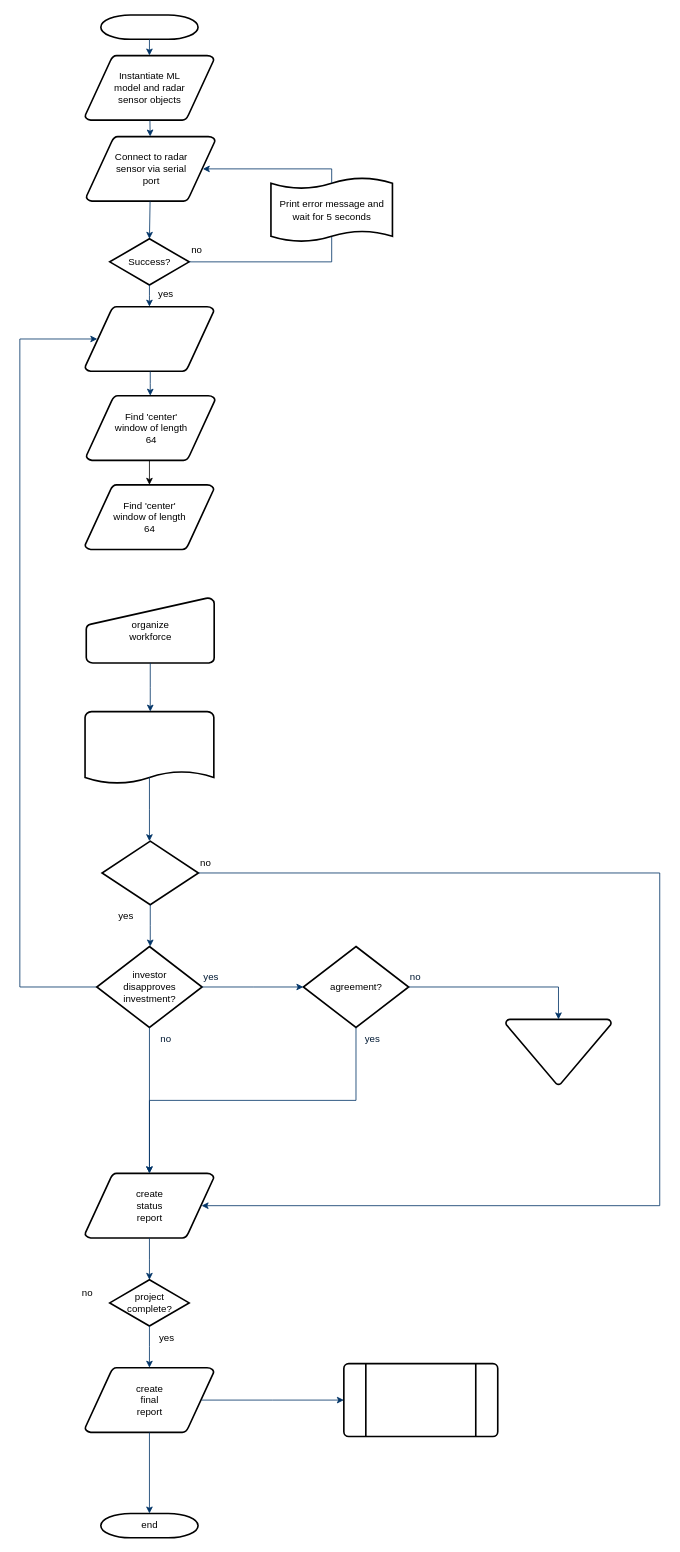
The diagram is 680 pixels wide and 1552 high, and some of its shapes have lost their labels. The box of each missing label's shape, as (x1, y1, x2, y2) in pixels:
create Gantt diagram: (84, 710, 214, 785)
issue bill of works: (343, 1362, 498, 1437)
late project changes?: (101, 840, 199, 905)
Load 80 frames from radar sensor, store as cache: (84, 305, 214, 372)
start: (100, 14, 198, 40)
terminate contract: (505, 1018, 612, 1085)
